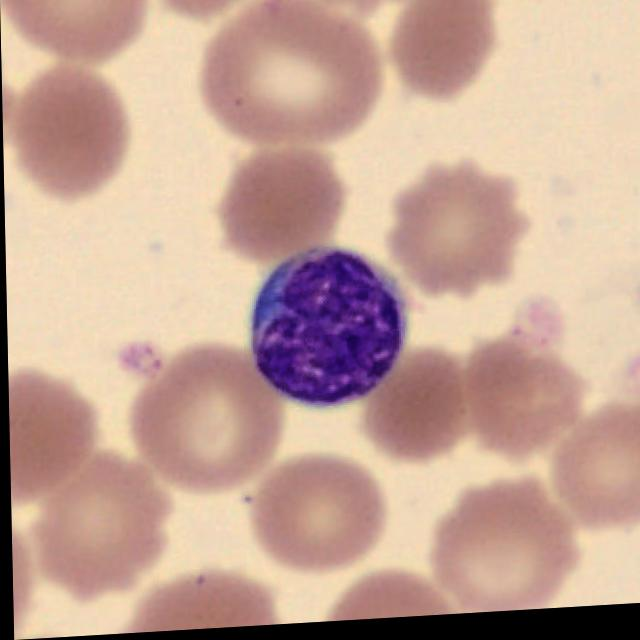Linfocito: (246, 250, 398, 411)
